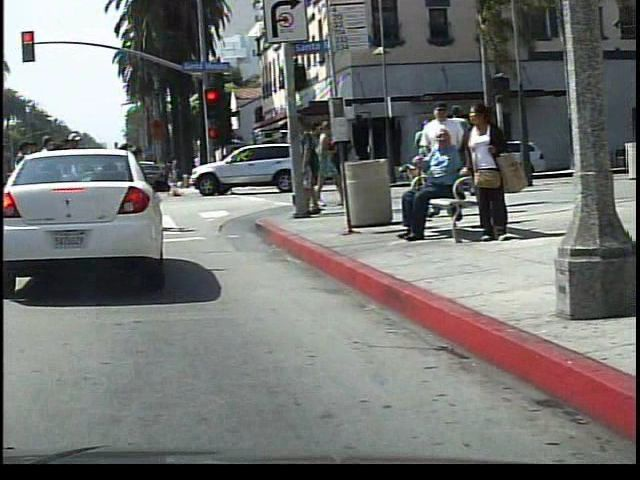person: (452, 100, 517, 238), (395, 130, 467, 248), (309, 117, 350, 208), (205, 146, 230, 197)
